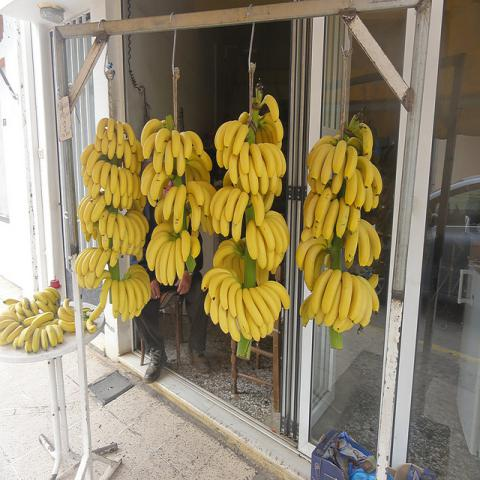car: (422, 174, 480, 304)
